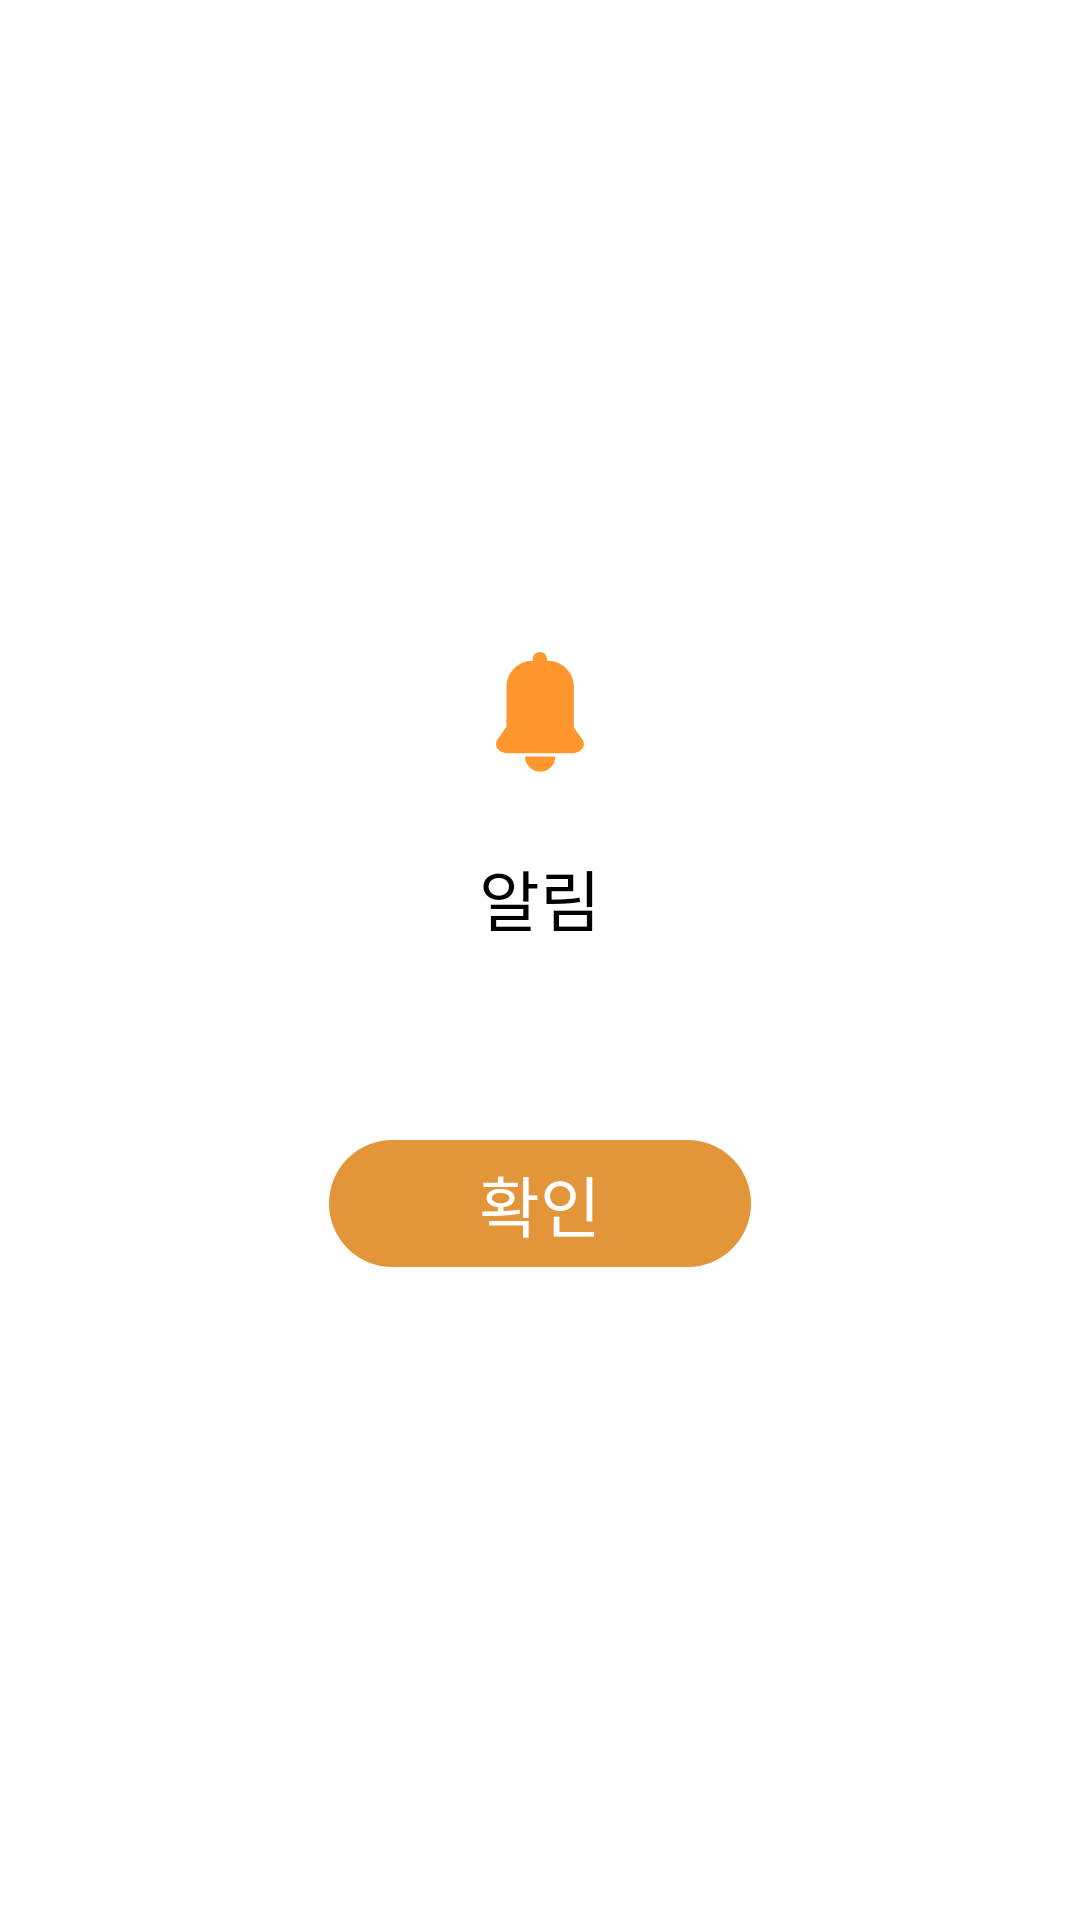

Named icons in this screenshot (1080 × 1920) and their bounding boxes, box(x1, y1, x2, y2):
bell: box(496, 652, 584, 772)
